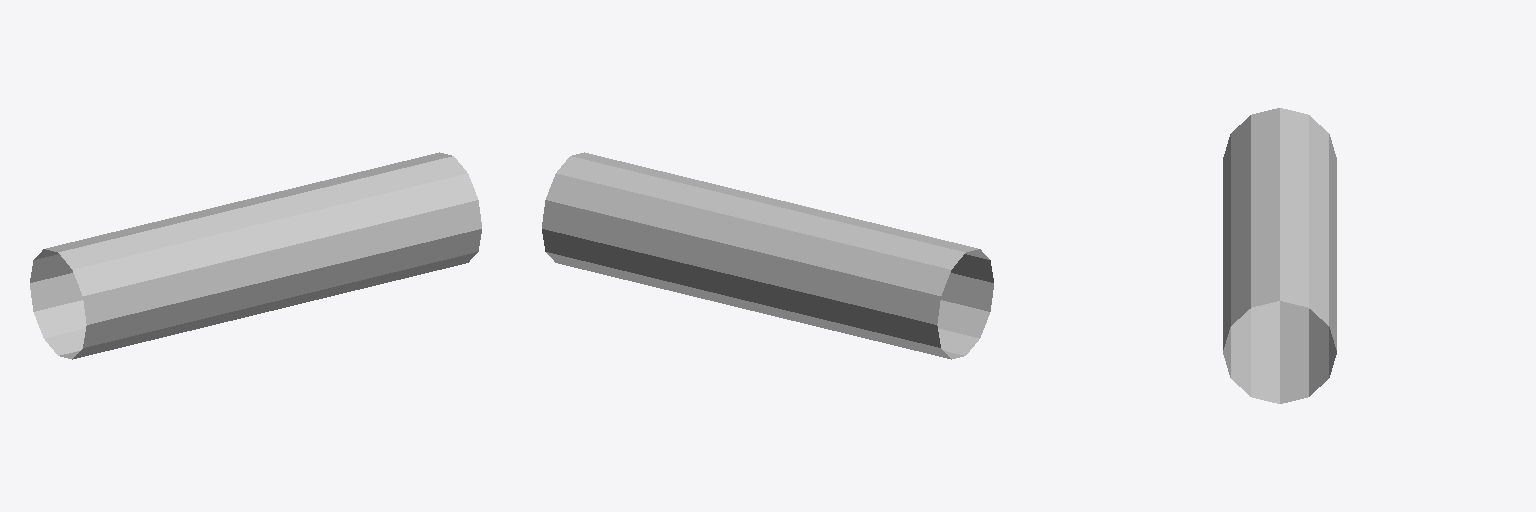
Rendered from pipeline_straight.obj.
3 views of the same model, side by side, from view 1: azimuth 30°, elevation 25°; view 2: azimuth 150°, elevation 25°; view 3: azimuth 270°, elevation 25° (orthographic).
Visible parts, largest first — view 1: NurbsPath_NurbsPath.001; view 2: NurbsPath_NurbsPath.001; view 3: NurbsPath_NurbsPath.001.
Boxes of the visible parts, box(x1,y1,x2,y2) form: NurbsPath_NurbsPath.001: box(30, 152, 481, 359); NurbsPath_NurbsPath.001: box(542, 152, 993, 359); NurbsPath_NurbsPath.001: box(1223, 108, 1336, 403).
Bounding box in the file's own units: 4 × 1 × 1.